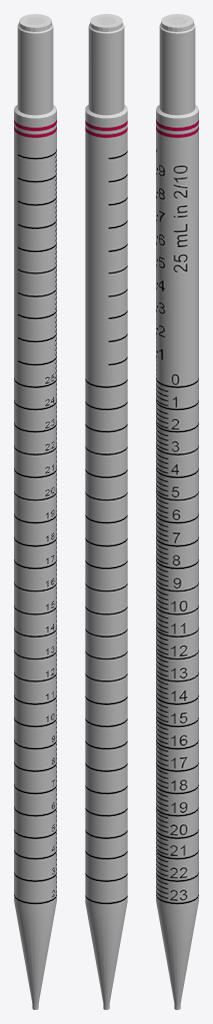
File: 25mlserological.fbx
3 renders of one model, left to right at view 1: azimuth 90°, elevation 25°; view 2: azimuth 150°, elevation 25°; view 3: azimuth 270°, elevation 25°, orthographic.
Parts seen in each view (by area): view 1: serological-pipette-25-ref, serological-pipette-25-fluid-02b; view 2: serological-pipette-25-ref, serological-pipette-25-fluid-02b; view 3: serological-pipette-25-ref, serological-pipette-25-fluid-02b.
Boxes of the visible parts, x1,y1,x2,y2 form: serological-pipette-25-ref: (14, 16, 56, 1009); serological-pipette-25-fluid-02b: (19, 14, 51, 31); serological-pipette-25-ref: (85, 16, 127, 1009); serological-pipette-25-fluid-02b: (90, 14, 122, 31); serological-pipette-25-ref: (156, 16, 198, 1009); serological-pipette-25-fluid-02b: (161, 14, 193, 31).
Bounding box in the file's own units: 0.0127 × 0.3239 × 0.0127.
